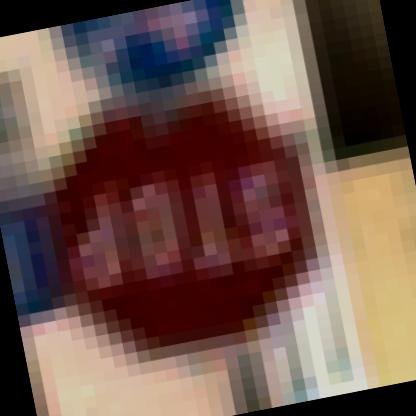stop: (20, 63, 333, 394)
